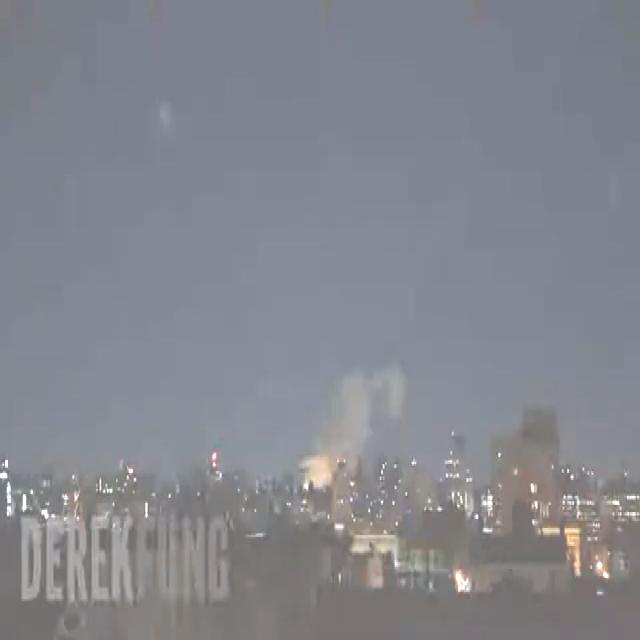smoke: (299, 366, 405, 485)
